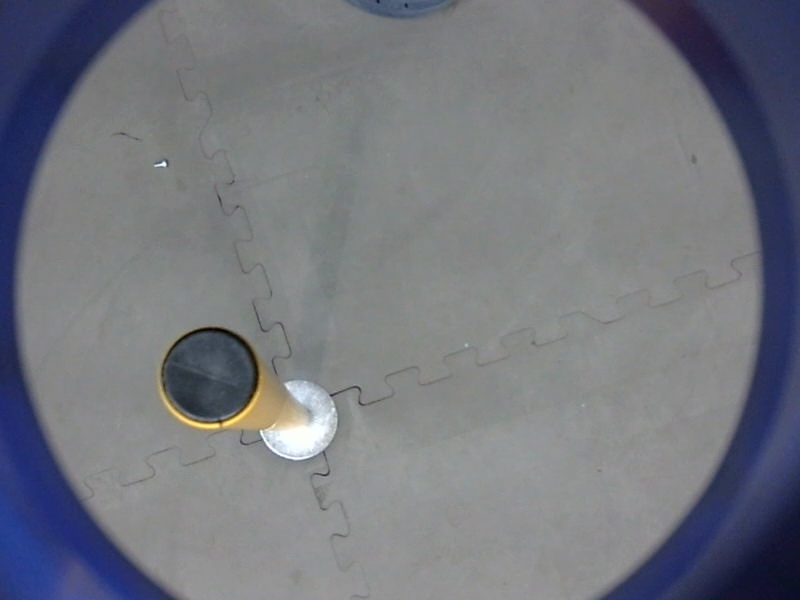tip: (151, 321, 267, 436)
